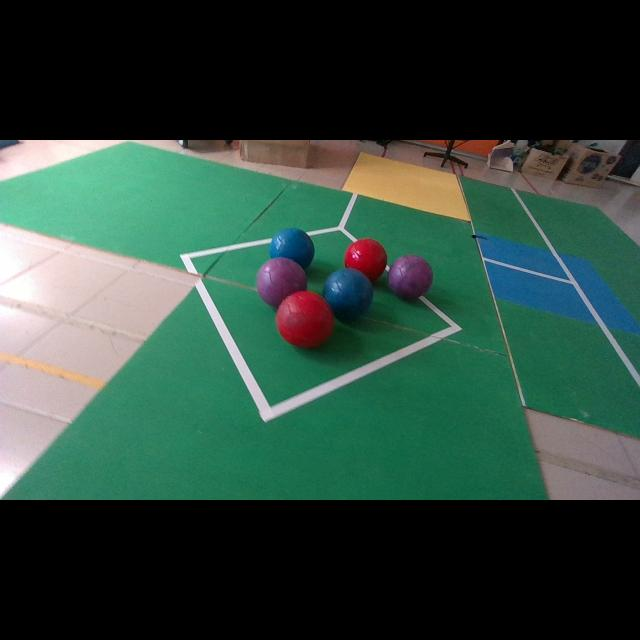B: (322, 268, 372, 321), (270, 228, 315, 269)
P: (256, 258, 308, 308), (388, 255, 432, 300)
R: (276, 290, 334, 349), (344, 238, 388, 281)
